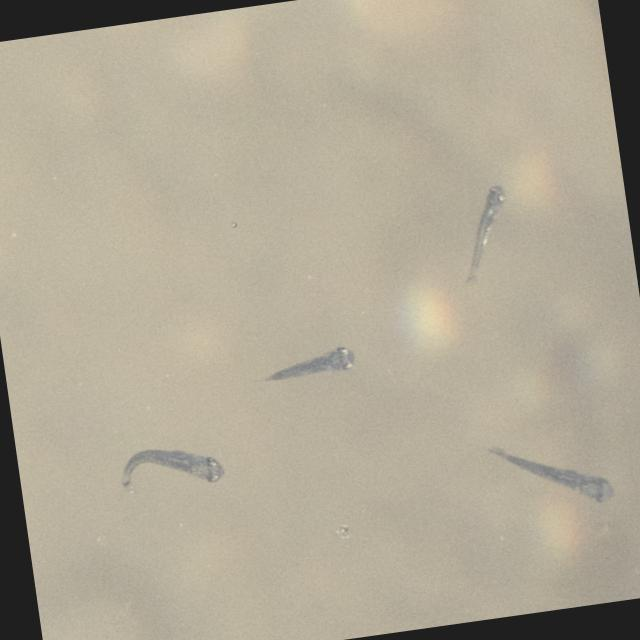Sivrisinek Baligi: (480, 426, 620, 524), (448, 184, 524, 286), (112, 436, 227, 501), (250, 340, 358, 390)
